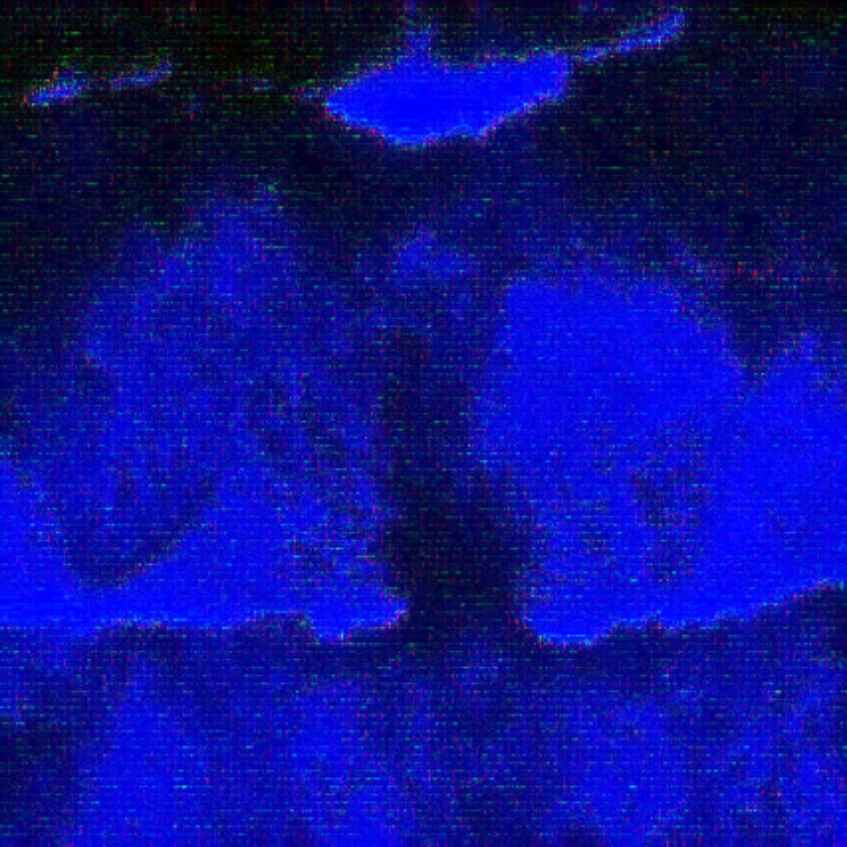rip_current: (320, 193, 559, 643)
